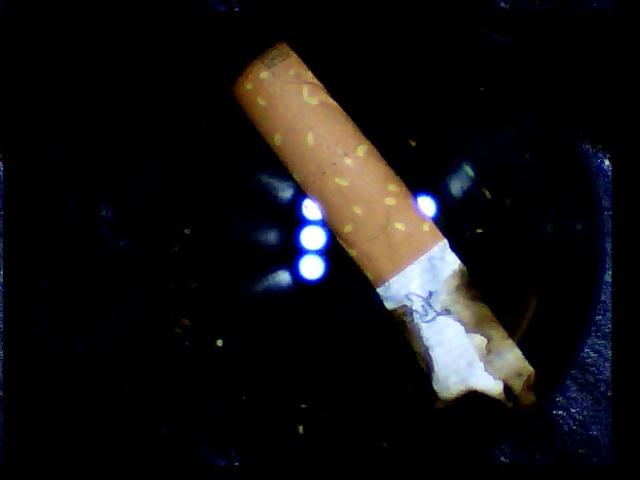megot: (224, 33, 549, 415)
